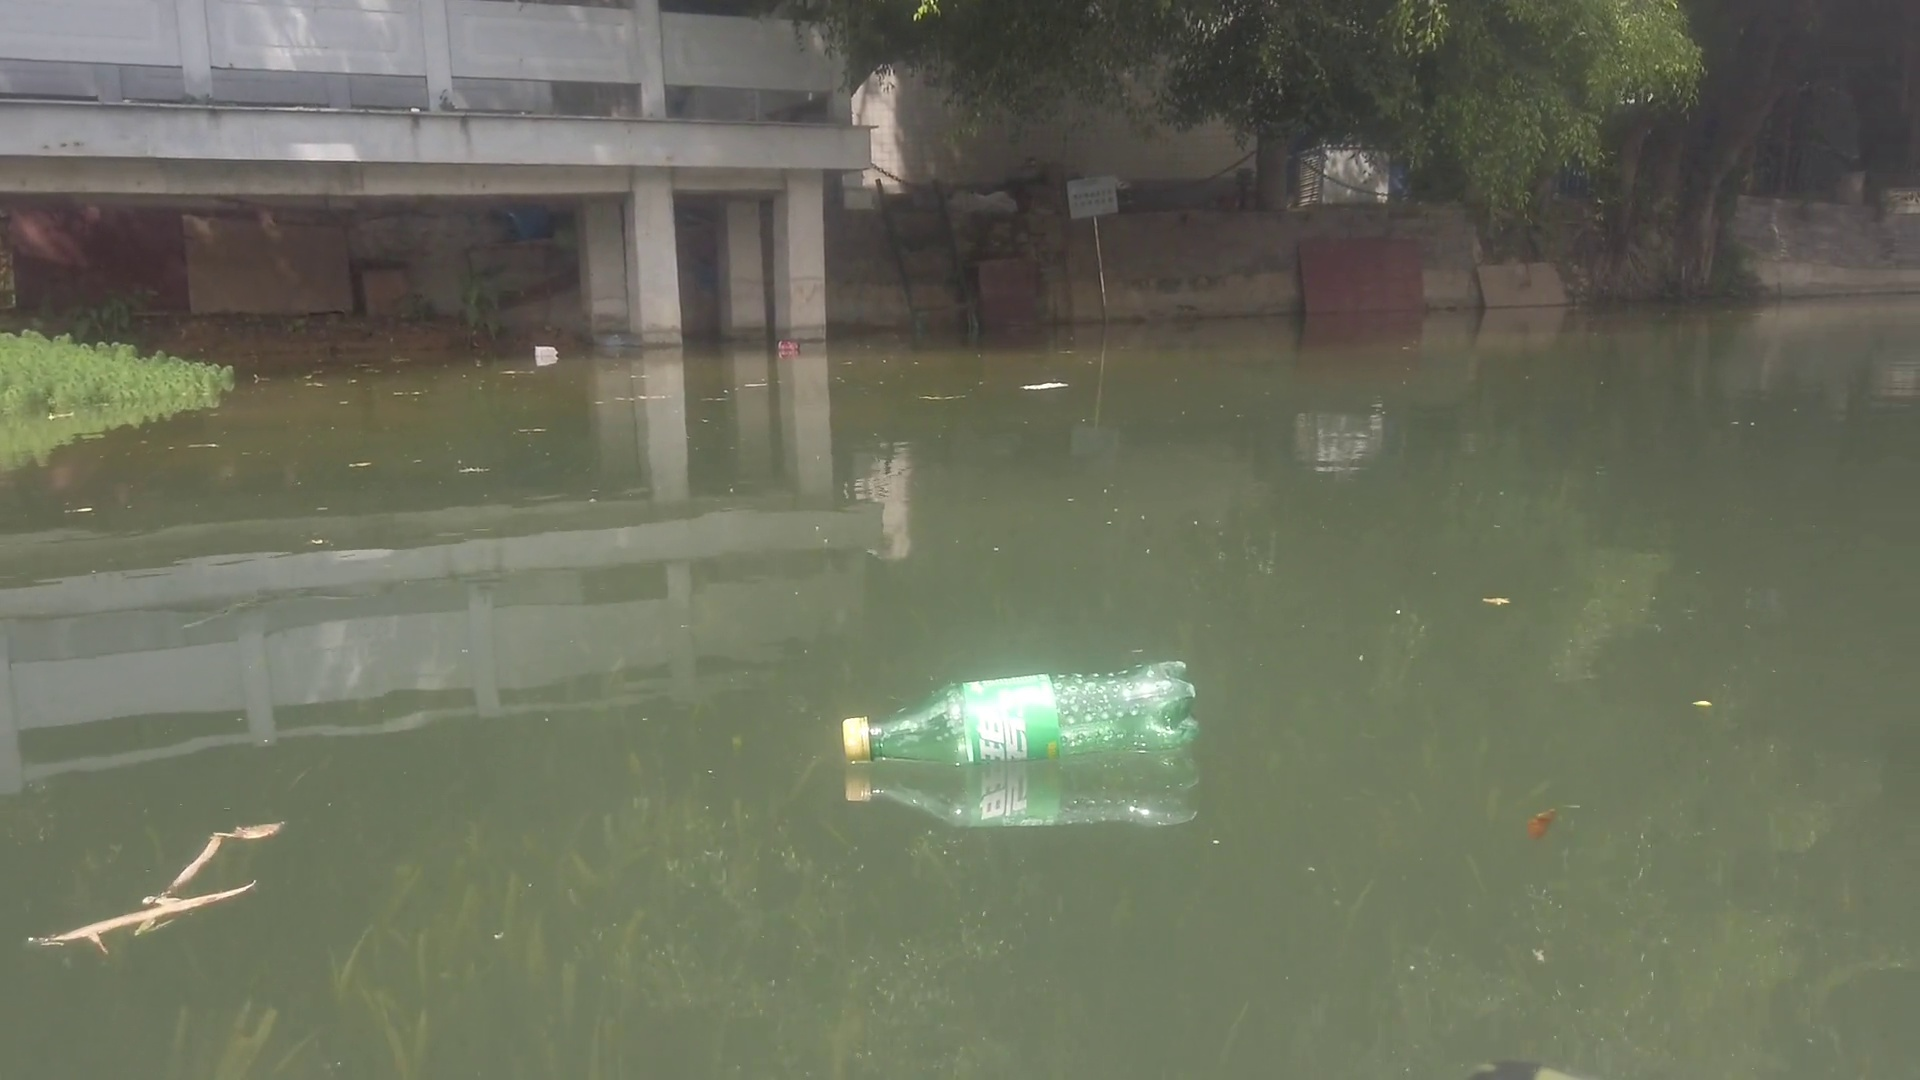bottle: (819, 655, 1199, 766), (775, 338, 804, 355)
carton: (531, 342, 559, 357)
paper: (1015, 375, 1072, 398)
